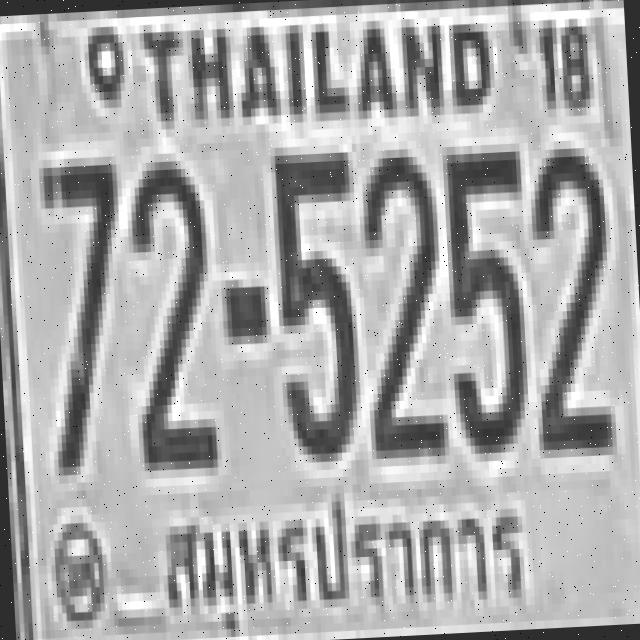2: (124, 152, 213, 463), (356, 148, 445, 452), (524, 144, 612, 446)
5: (438, 144, 531, 447), (270, 144, 359, 456)
7: (39, 156, 128, 468)
SamutPrakan: (147, 480, 530, 640)
